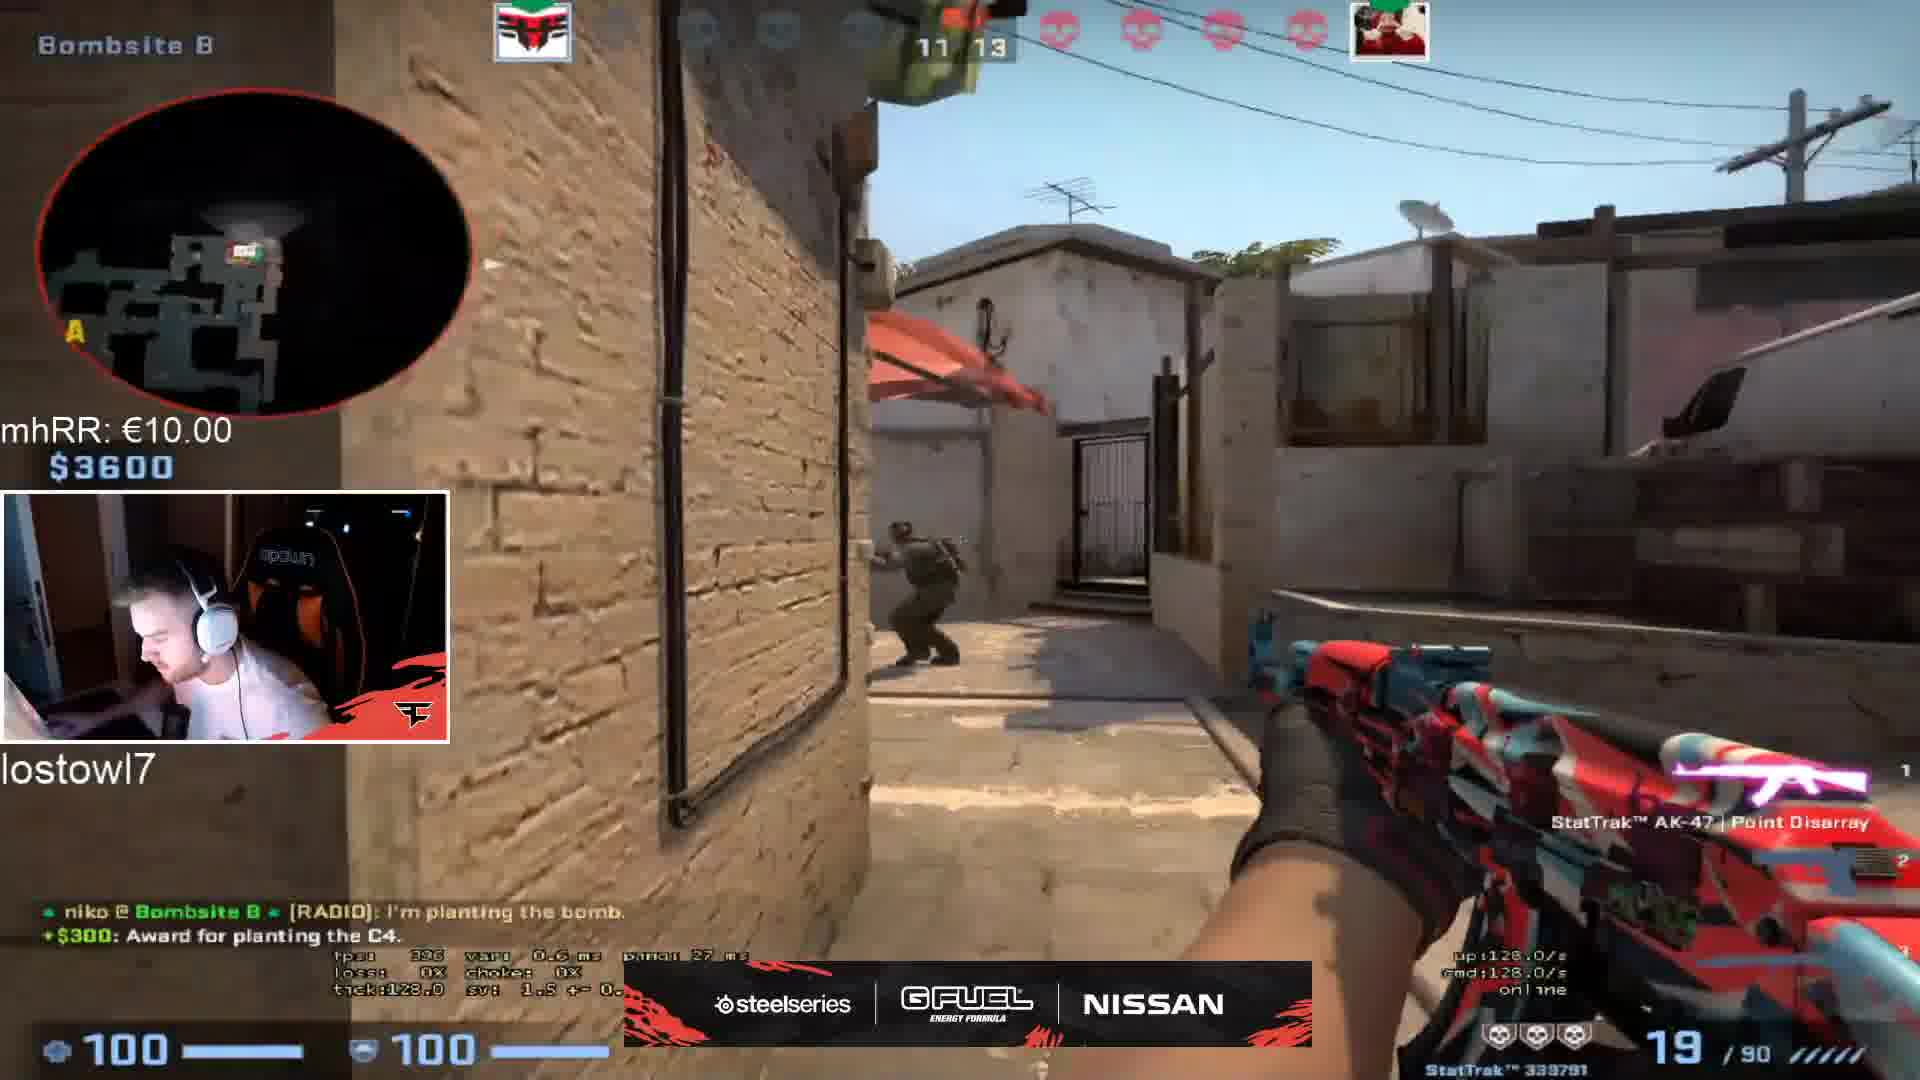enemy: (872, 504, 978, 680)
